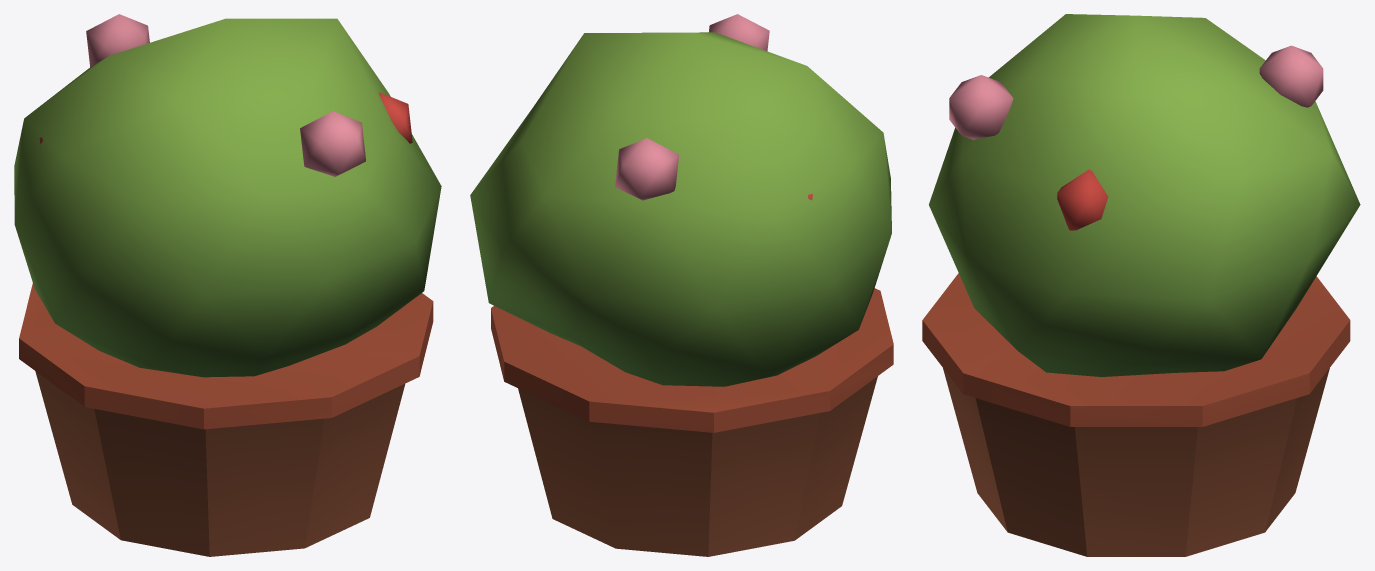
Rendered from planter.glb.
3 renders of one model, left to right at view 1: azimuth 30°, elevation 25°; view 2: azimuth 150°, elevation 25°; view 3: azimuth 270°, elevation 25°, orthographic. The views are drawn at different scales.
Parts seen in each view (by area): view 1: planter_mesh; view 2: planter_mesh; view 3: planter_mesh.
Boxes of the visible parts, left/top/right/bottom form: planter_mesh: left=14, top=14, right=441, bottom=556; planter_mesh: left=470, top=14, right=893, bottom=556; planter_mesh: left=922, top=14, right=1360, bottom=556.
Size of the model in its own units: 1.5 by 1.82 by 1.52.
